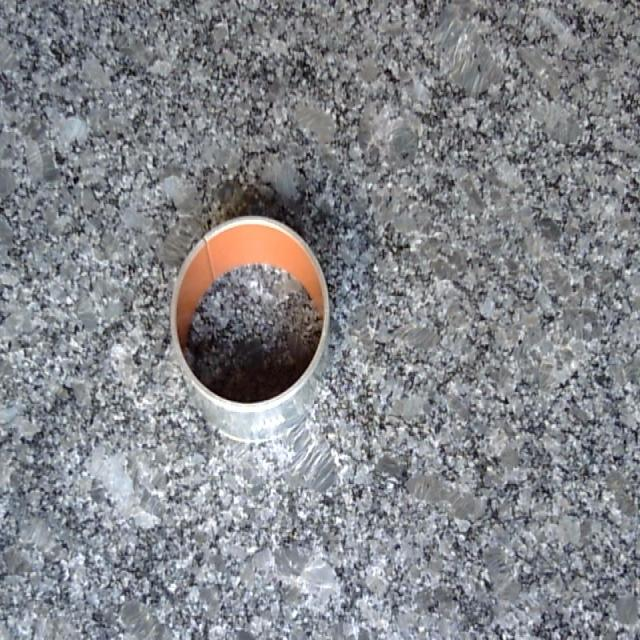steel-ring: (172, 217, 329, 442)
